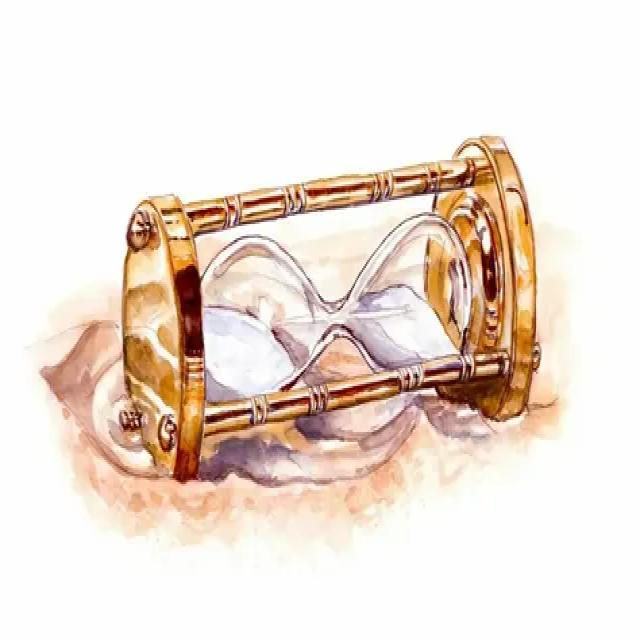clock: (112, 118, 546, 481)
